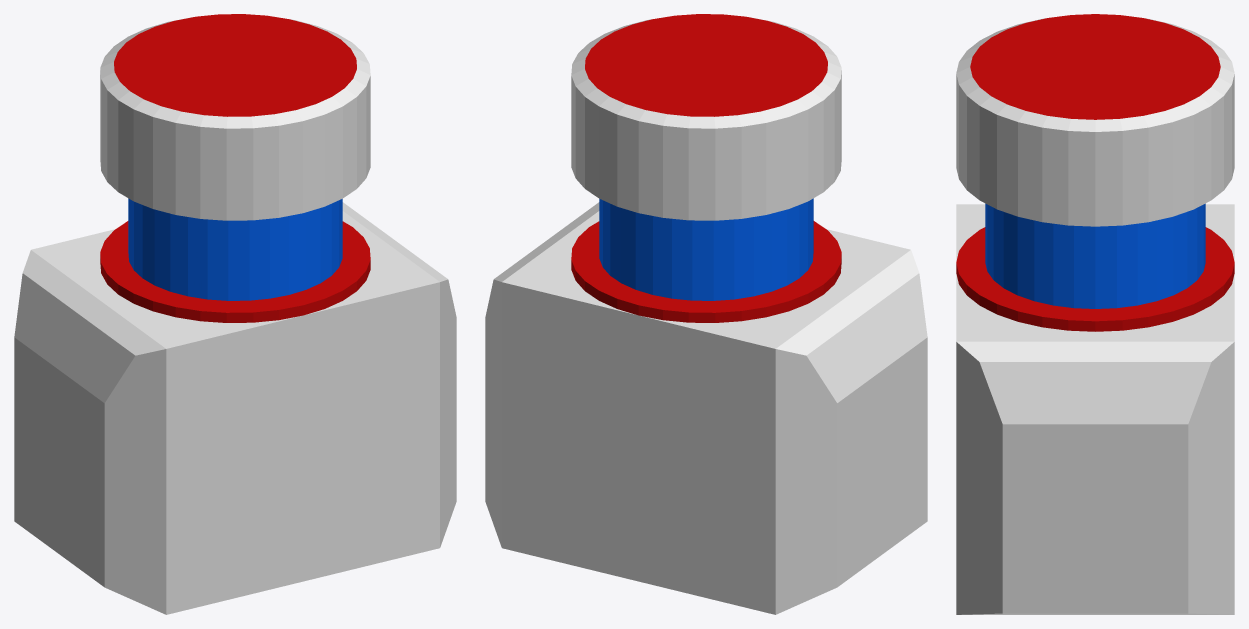
The model's file is vux-1uav.obj.
3 views of the same model, side by side, from view 1: azimuth 30°, elevation 25°; view 2: azimuth 150°, elevation 25°; view 3: azimuth 270°, elevation 25° (orthographic). The views are drawn at different scales.
Parts seen in each view (by area): view 1: Cube.012_Cube, Cube.016_Cube.007, Cube.014_Cube.006, Cube.017_Cube.008; view 2: Cube.012_Cube, Cube.016_Cube.007, Cube.014_Cube.006, Cube.017_Cube.008; view 3: Cube.012_Cube, Cube.016_Cube.007, Cube.014_Cube.006, Cube.017_Cube.008.
Boxes of the visible parts, bbox=[...] form: Cube.012_Cube: bbox=[14, 202, 456, 614]; Cube.016_Cube.007: bbox=[100, 14, 370, 220]; Cube.014_Cube.006: bbox=[128, 198, 342, 300]; Cube.017_Cube.008: bbox=[100, 221, 370, 322]; Cube.012_Cube: bbox=[485, 202, 927, 614]; Cube.016_Cube.007: bbox=[571, 14, 841, 220]; Cube.014_Cube.006: bbox=[599, 198, 813, 300]; Cube.017_Cube.008: bbox=[571, 221, 841, 322]; Cube.012_Cube: bbox=[956, 204, 1234, 614]; Cube.016_Cube.007: bbox=[956, 14, 1234, 226]; Cube.014_Cube.006: bbox=[985, 203, 1205, 308]; Cube.017_Cube.008: bbox=[956, 227, 1234, 331].
Bounding box in the file's own units: 0.18 × 0.228 × 0.12.
